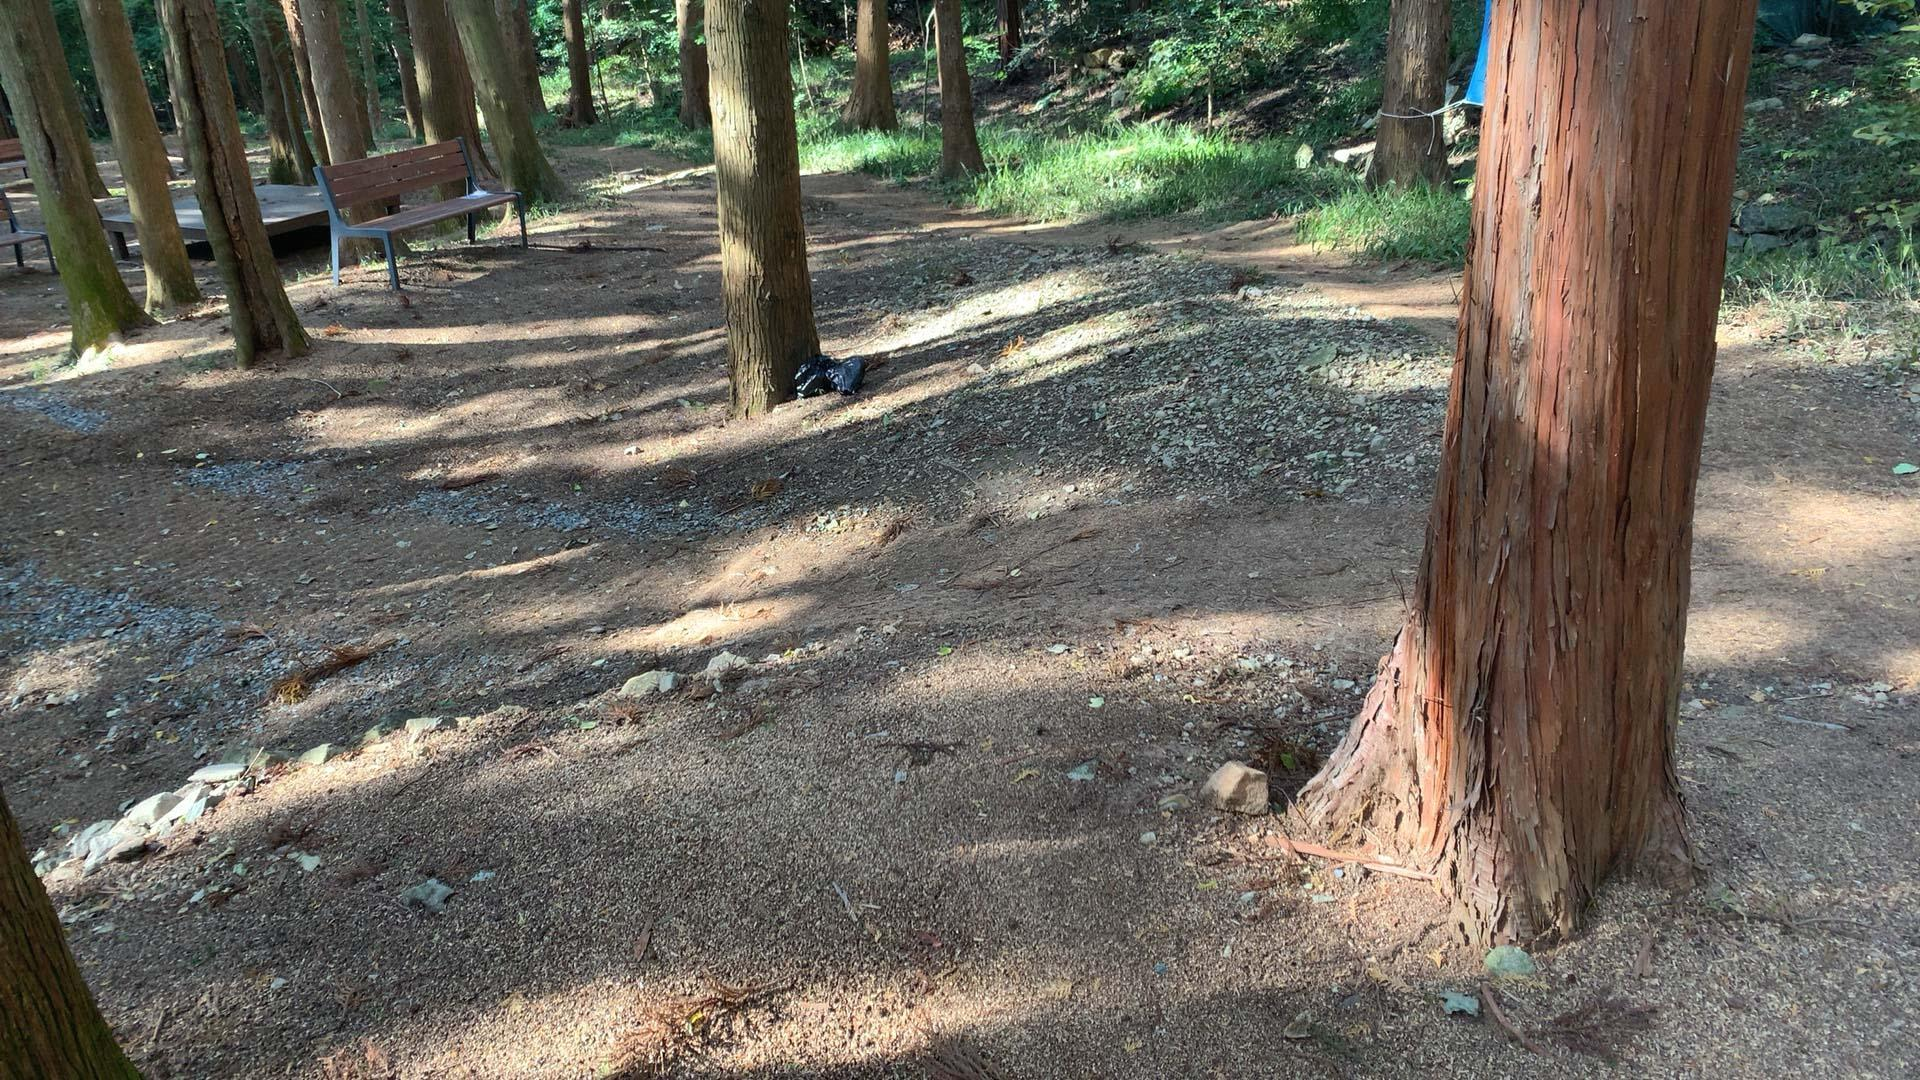black_bag: (787, 349, 843, 400), (822, 352, 874, 396)
